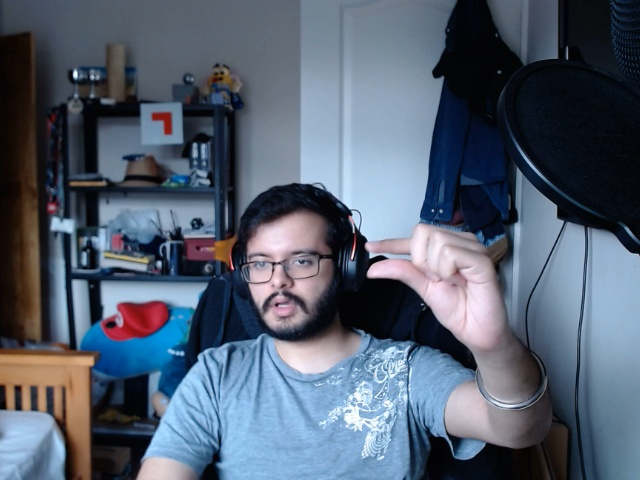Small: (362, 216, 526, 359)
